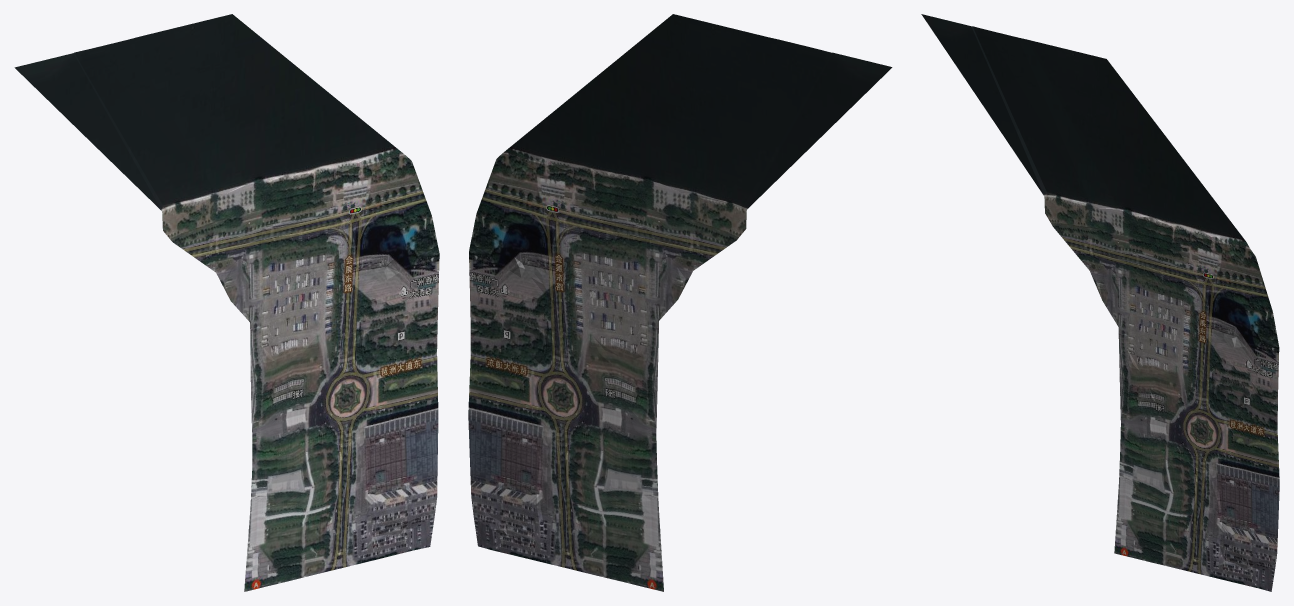
3 renders of one model, left to right at view 1: azimuth 30°, elevation 25°; view 2: azimuth 150°, elevation 25°; view 3: azimuth 330°, elevation 25°, orthographic. The views are drawn at different scales.
Parts seen in each view (by area): view 1: 0_2_1_1_2; view 2: 0_2_1_1_2; view 3: 0_2_1_1_2.
Boxes of the visible parts, x1=… form: 0_2_1_1_2: x1=14, y1=14, x2=439, y2=591; 0_2_1_1_2: x1=468, y1=14, x2=892, y2=591; 0_2_1_1_2: x1=921, y1=14, x2=1279, y2=591.
Bounding box in the file's own units: 744 × 972 × 7.49.
1 material, 1 textured.
